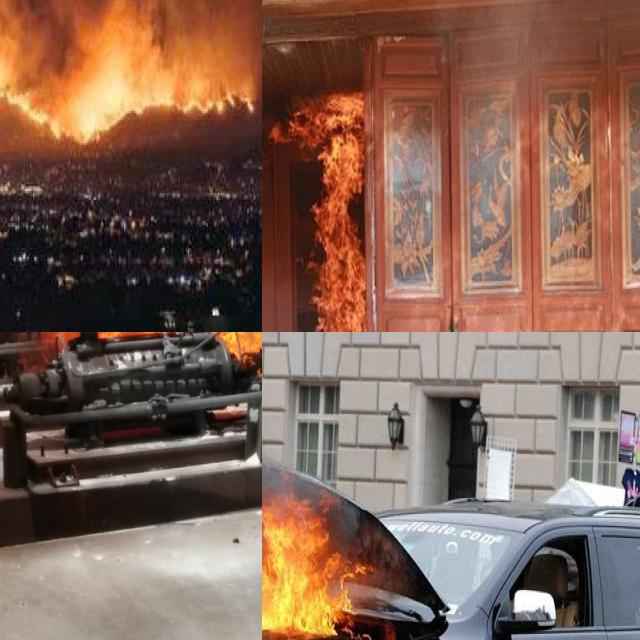fire: (0, 43, 258, 143), (262, 451, 379, 640), (282, 98, 374, 332)
smoke: (0, 0, 262, 63)
